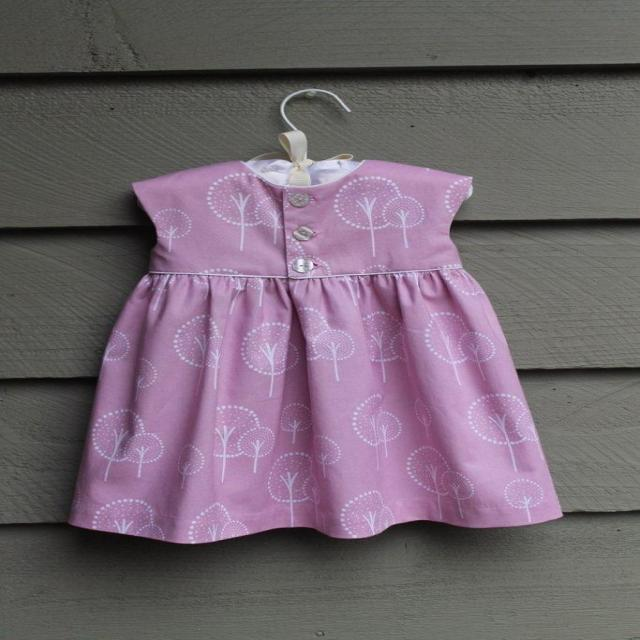Dress: (75, 155, 568, 542)
